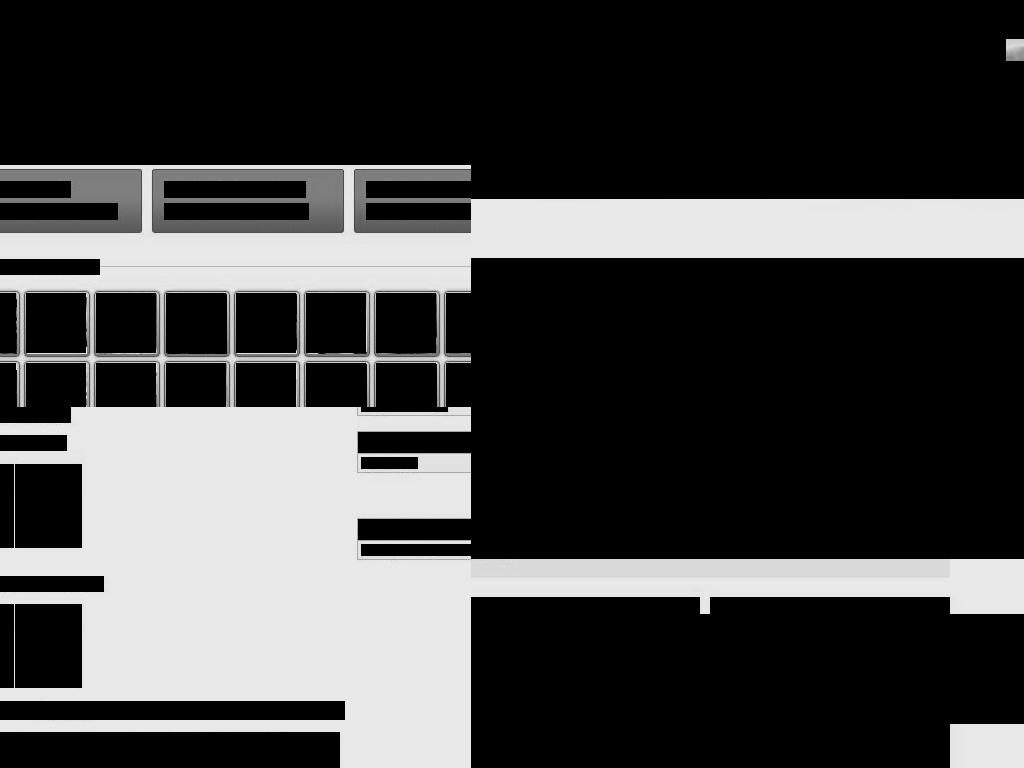button: (471, 665, 950, 768), (580, 258, 818, 407), (818, 258, 1024, 407), (471, 449, 1024, 504), (471, 504, 1024, 559), (471, 559, 1024, 614), (471, 614, 1024, 669), (471, 669, 1024, 724), (471, 407, 1024, 449), (471, 258, 581, 407), (710, 597, 950, 646), (471, 597, 700, 646), (681, 92, 861, 143), (471, 43, 621, 94)
heading: (544, 488, 796, 520), (0, 701, 345, 720), (164, 203, 309, 220), (164, 181, 306, 198), (0, 203, 118, 220), (366, 181, 471, 198), (366, 203, 471, 220), (0, 181, 71, 198)
image: (0, 0, 471, 165), (471, 665, 950, 768), (583, 258, 816, 406), (820, 258, 1024, 406), (471, 258, 578, 406), (471, 451, 515, 558), (26, 293, 86, 353), (96, 293, 156, 353), (166, 293, 226, 353), (236, 293, 296, 353), (306, 293, 366, 353), (376, 293, 436, 353), (26, 363, 86, 407), (96, 363, 156, 407), (166, 363, 226, 407), (236, 363, 296, 407), (306, 363, 366, 407), (376, 363, 436, 407), (446, 293, 471, 353), (446, 363, 471, 407), (0, 293, 16, 353), (657, 609, 680, 633), (907, 609, 930, 633)
link: (471, 106, 542, 127), (471, 140, 534, 161), (361, 544, 471, 556), (361, 457, 418, 469), (361, 407, 448, 412), (0, 762, 42, 768)
text: (471, 0, 1024, 199), (681, 15, 1024, 61), (0, 732, 340, 768), (7, 732, 209, 748), (358, 432, 471, 453), (358, 519, 471, 540), (730, 610, 815, 633), (15, 464, 82, 492), (15, 492, 82, 520), (15, 520, 82, 548), (15, 604, 82, 632), (15, 632, 82, 660), (15, 660, 82, 688), (0, 576, 101, 592), (0, 259, 100, 275), (480, 610, 546, 633), (531, 468, 629, 483), (0, 407, 71, 423), (208, 732, 275, 748), (0, 435, 64, 451), (563, 523, 597, 538), (41, 762, 112, 768), (1006, 39, 1024, 61), (999, 40, 1006, 52), (63, 435, 67, 451), (100, 576, 104, 592)
